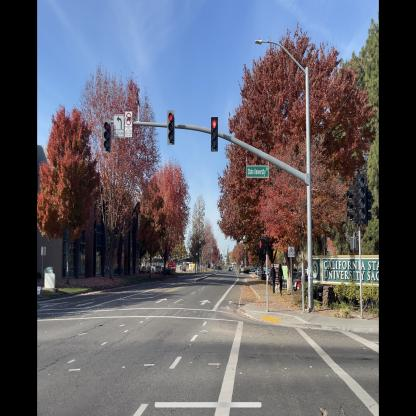left-red: (102, 117, 112, 157)
red: (166, 108, 176, 149), (210, 114, 219, 155)
